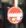No entry: (5, 5, 21, 23)
